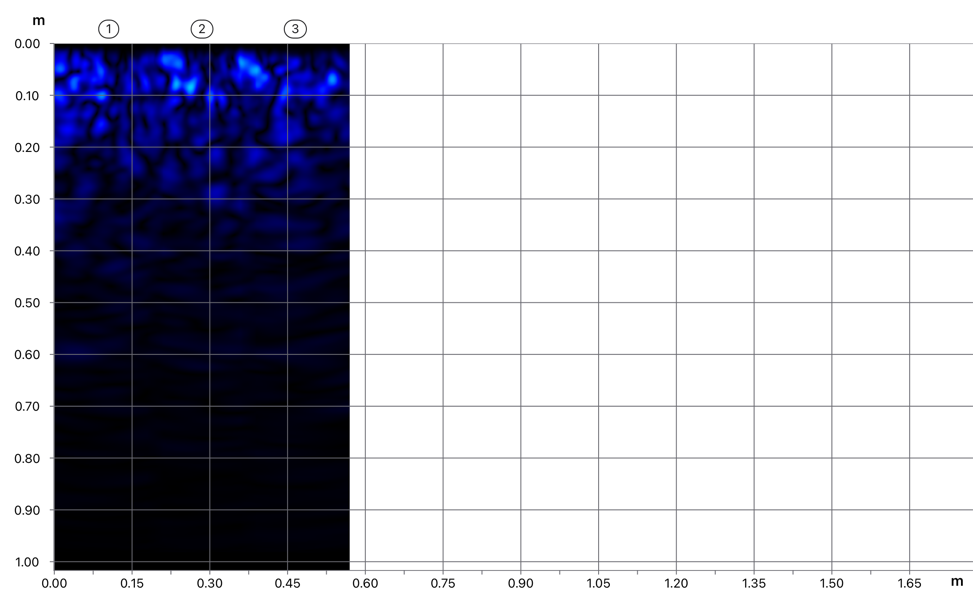crop: (2, 6, 349, 330)
